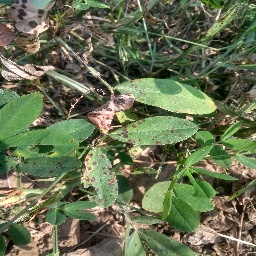GroundNut_Leaf: (116, 77, 219, 117), (83, 145, 120, 208), (1, 91, 49, 137), (125, 119, 197, 143), (14, 156, 81, 179), (165, 197, 202, 235), (213, 145, 234, 175), (12, 222, 33, 247)
